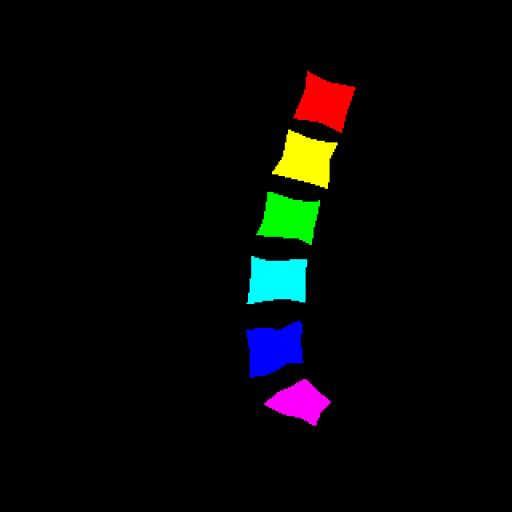L1: (293, 71, 355, 132)
L2: (272, 130, 338, 188)
L3: (257, 192, 320, 244)
L4: (247, 256, 307, 304)
L5: (246, 321, 303, 376)
S1: (265, 379, 331, 426)
